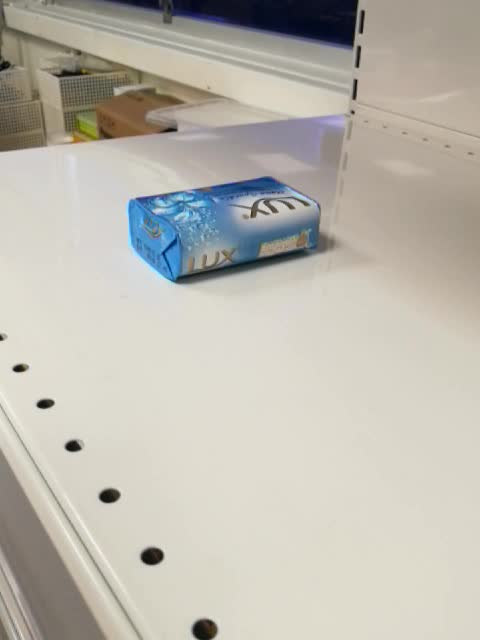soap: (127, 174, 322, 283)
